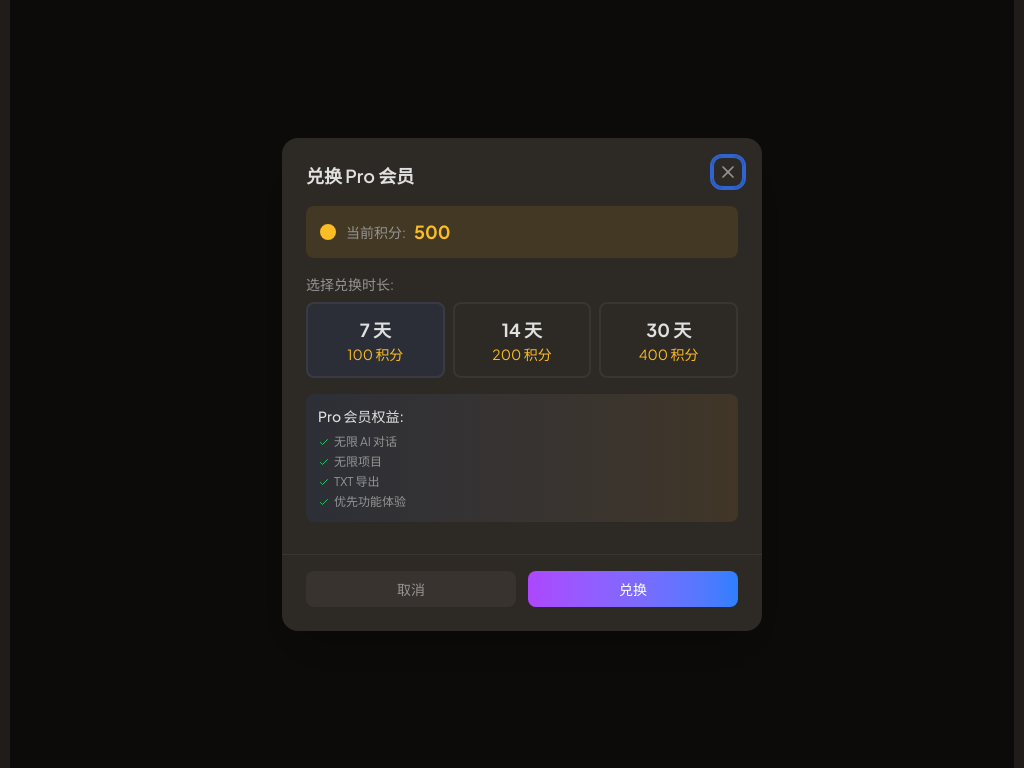
Test: RedeemProModal › Error Handling › shows error message on redemption failure
Click the button "兑换": click(633, 588) left=528, top=570, right=738, bottom=606
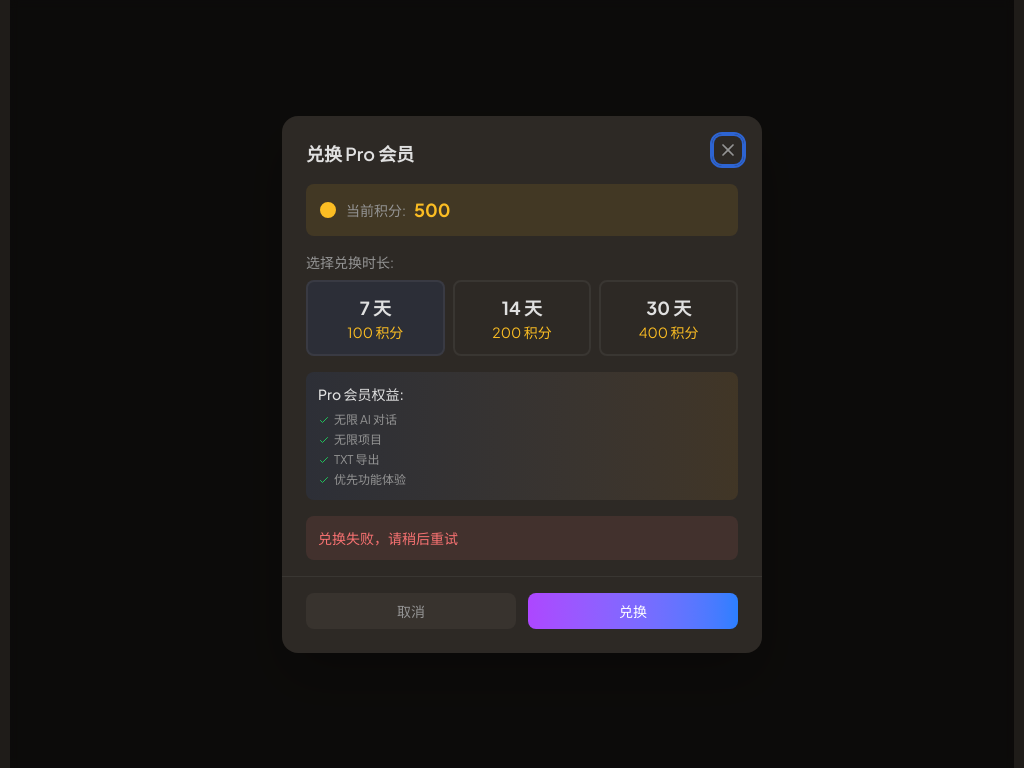
Now the text "兑换失败，请稍后重试" is shown, box left=306, top=516, right=738, bottom=560
